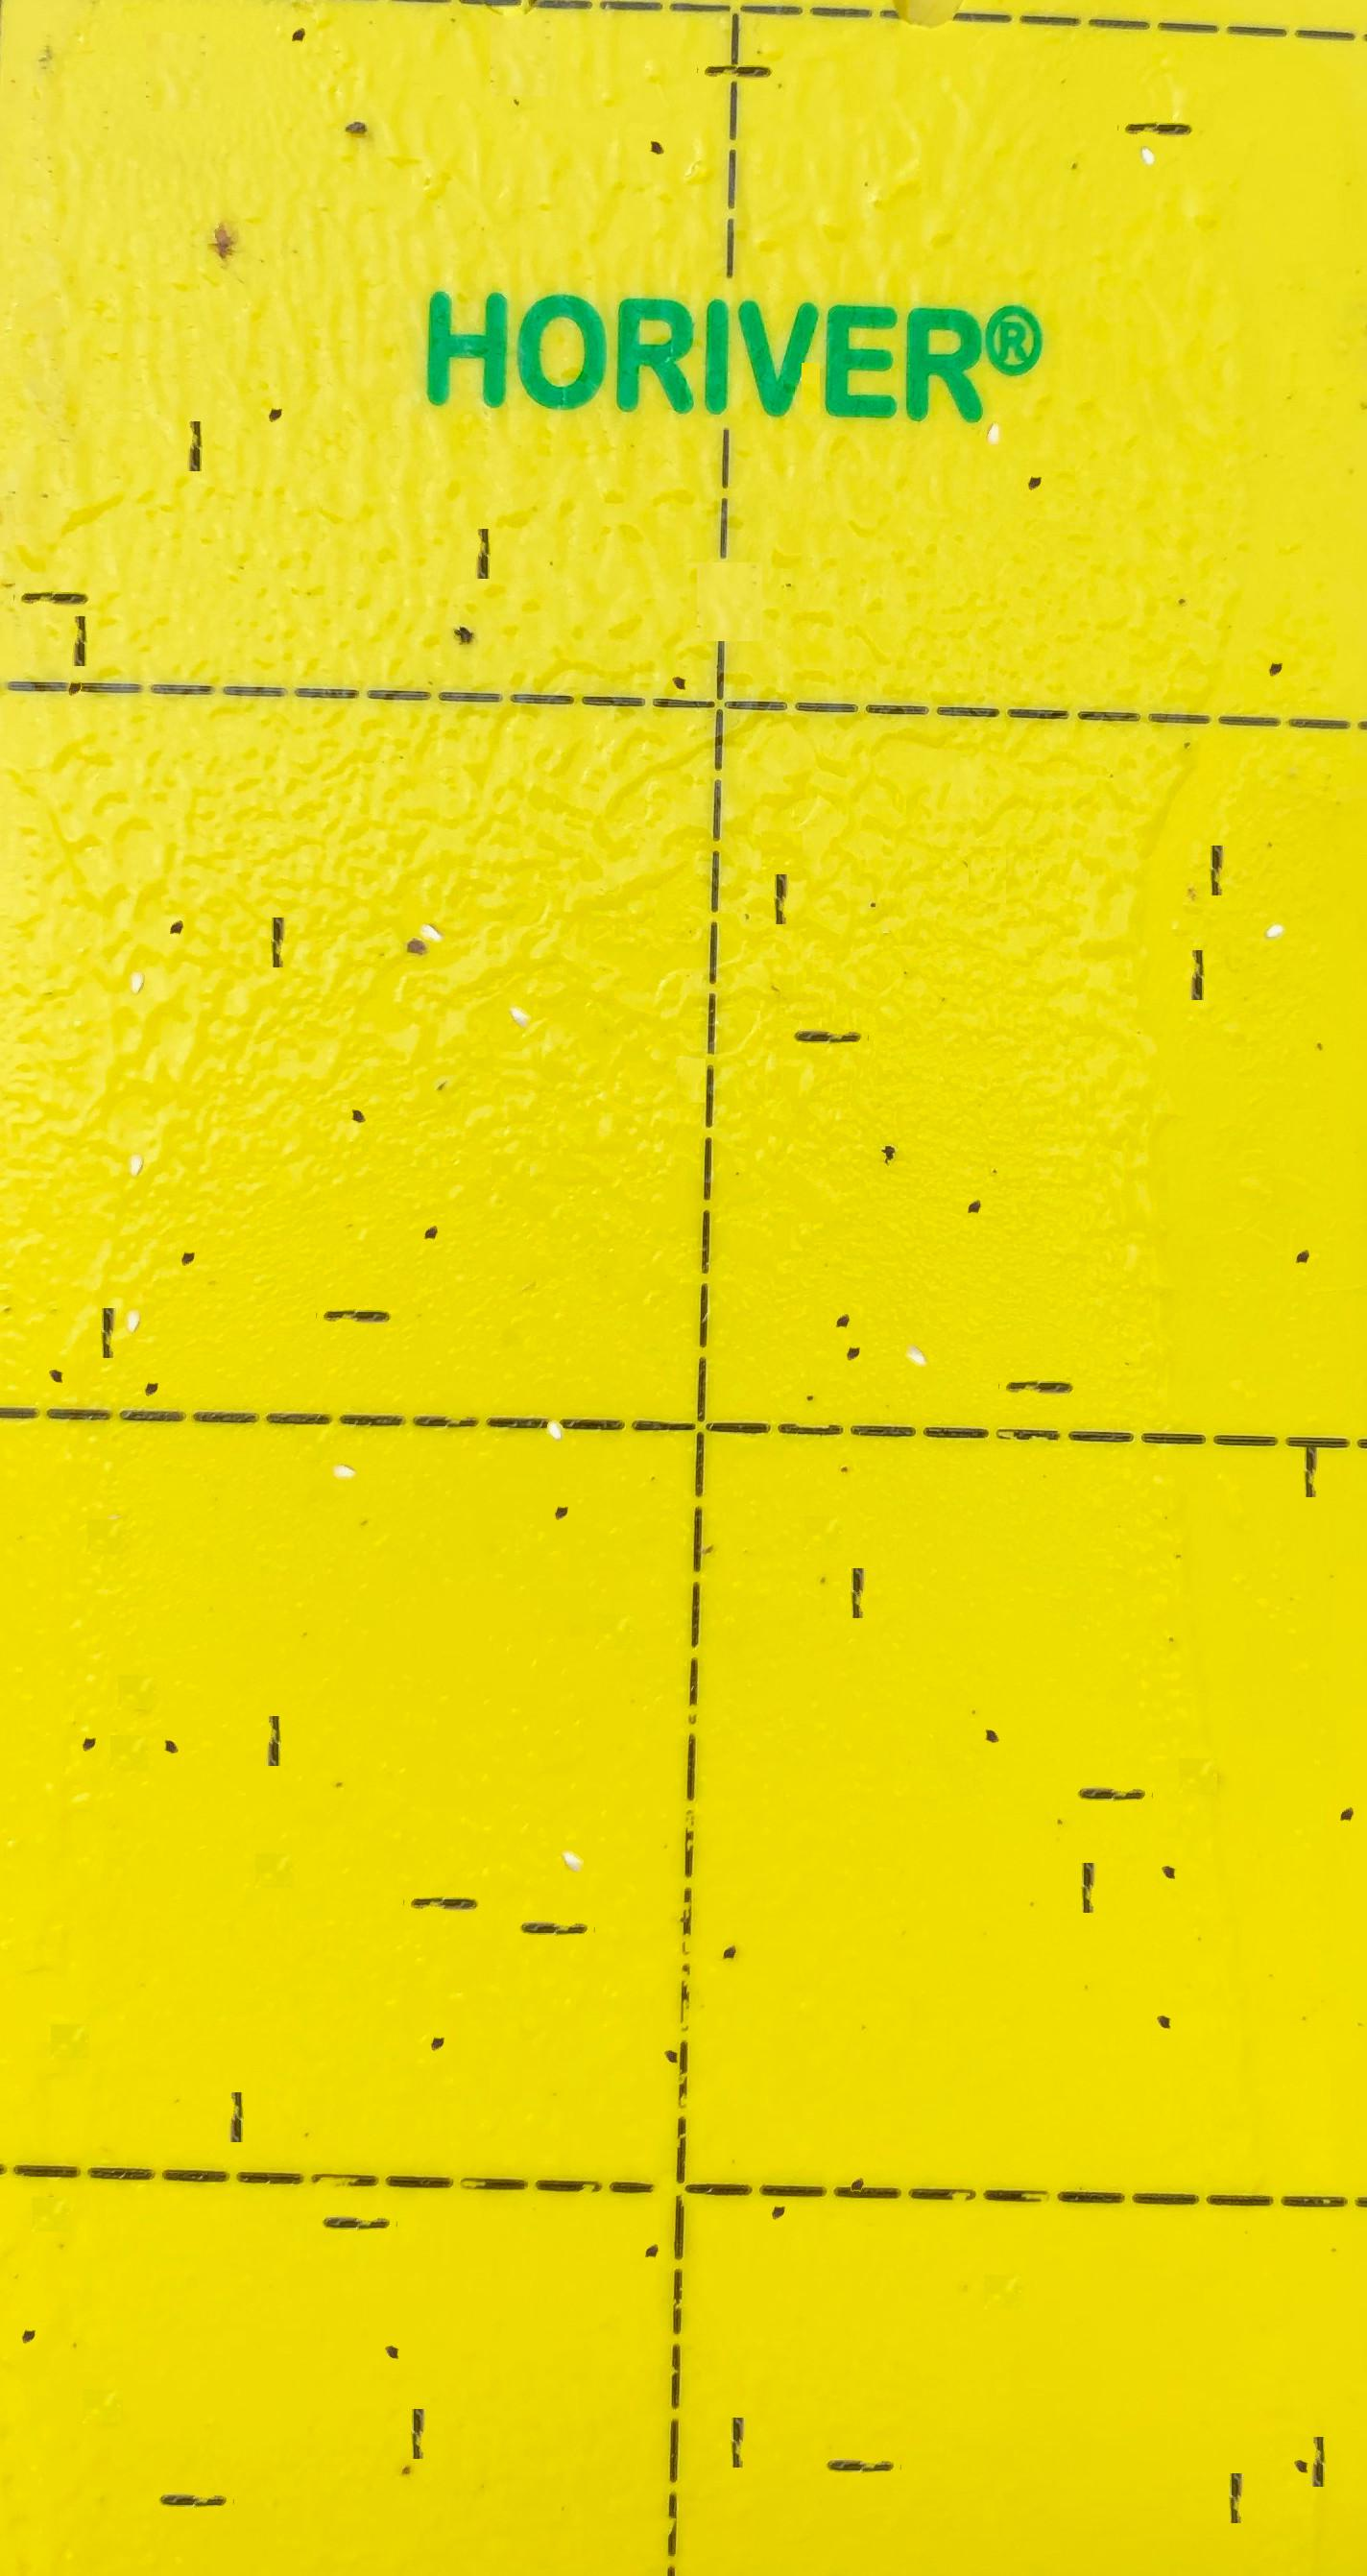white_fly: (1255, 860, 1297, 908), (535, 1358, 576, 1406), (1127, 85, 1168, 133), (499, 952, 542, 997), (407, 867, 450, 911), (895, 1290, 937, 1332), (552, 1797, 595, 1840), (118, 1107, 159, 1145), (322, 1414, 363, 1452), (118, 925, 159, 963), (114, 1264, 155, 1302), (972, 380, 1012, 416)
